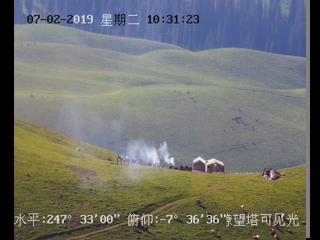smoke: (123, 135, 177, 170)
